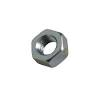Thread: (37, 33, 59, 59)
